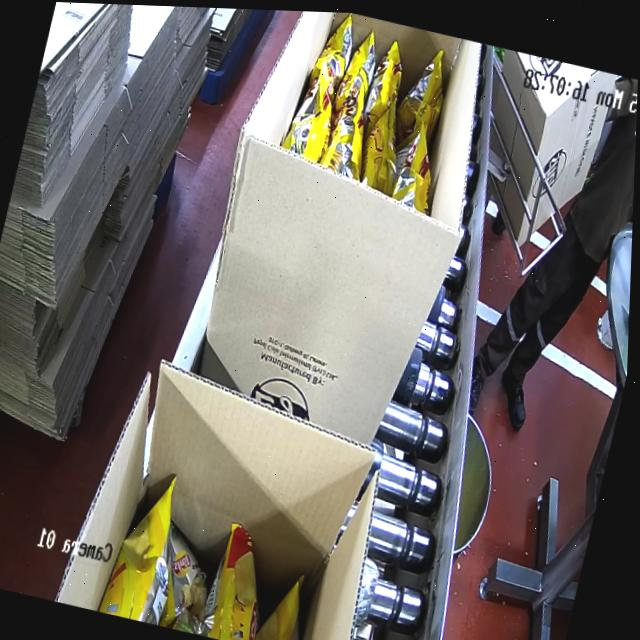SALTED: (96, 456, 337, 640), (267, 10, 472, 225)
